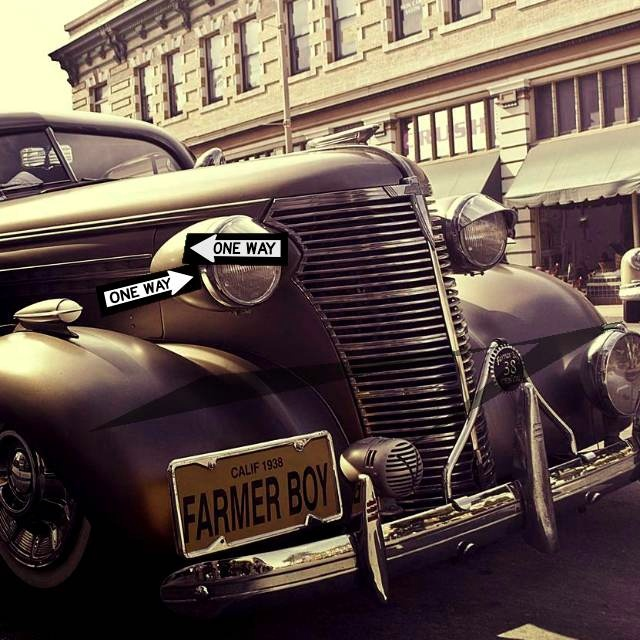ONE_WAY_ left: (181, 232, 288, 266)
ONE_WAY_ right: (95, 262, 202, 317)
